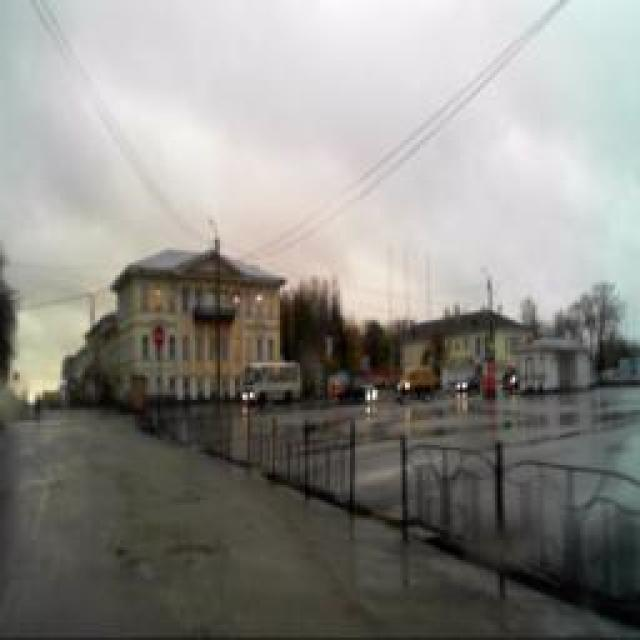sign: (153, 325, 165, 347)
